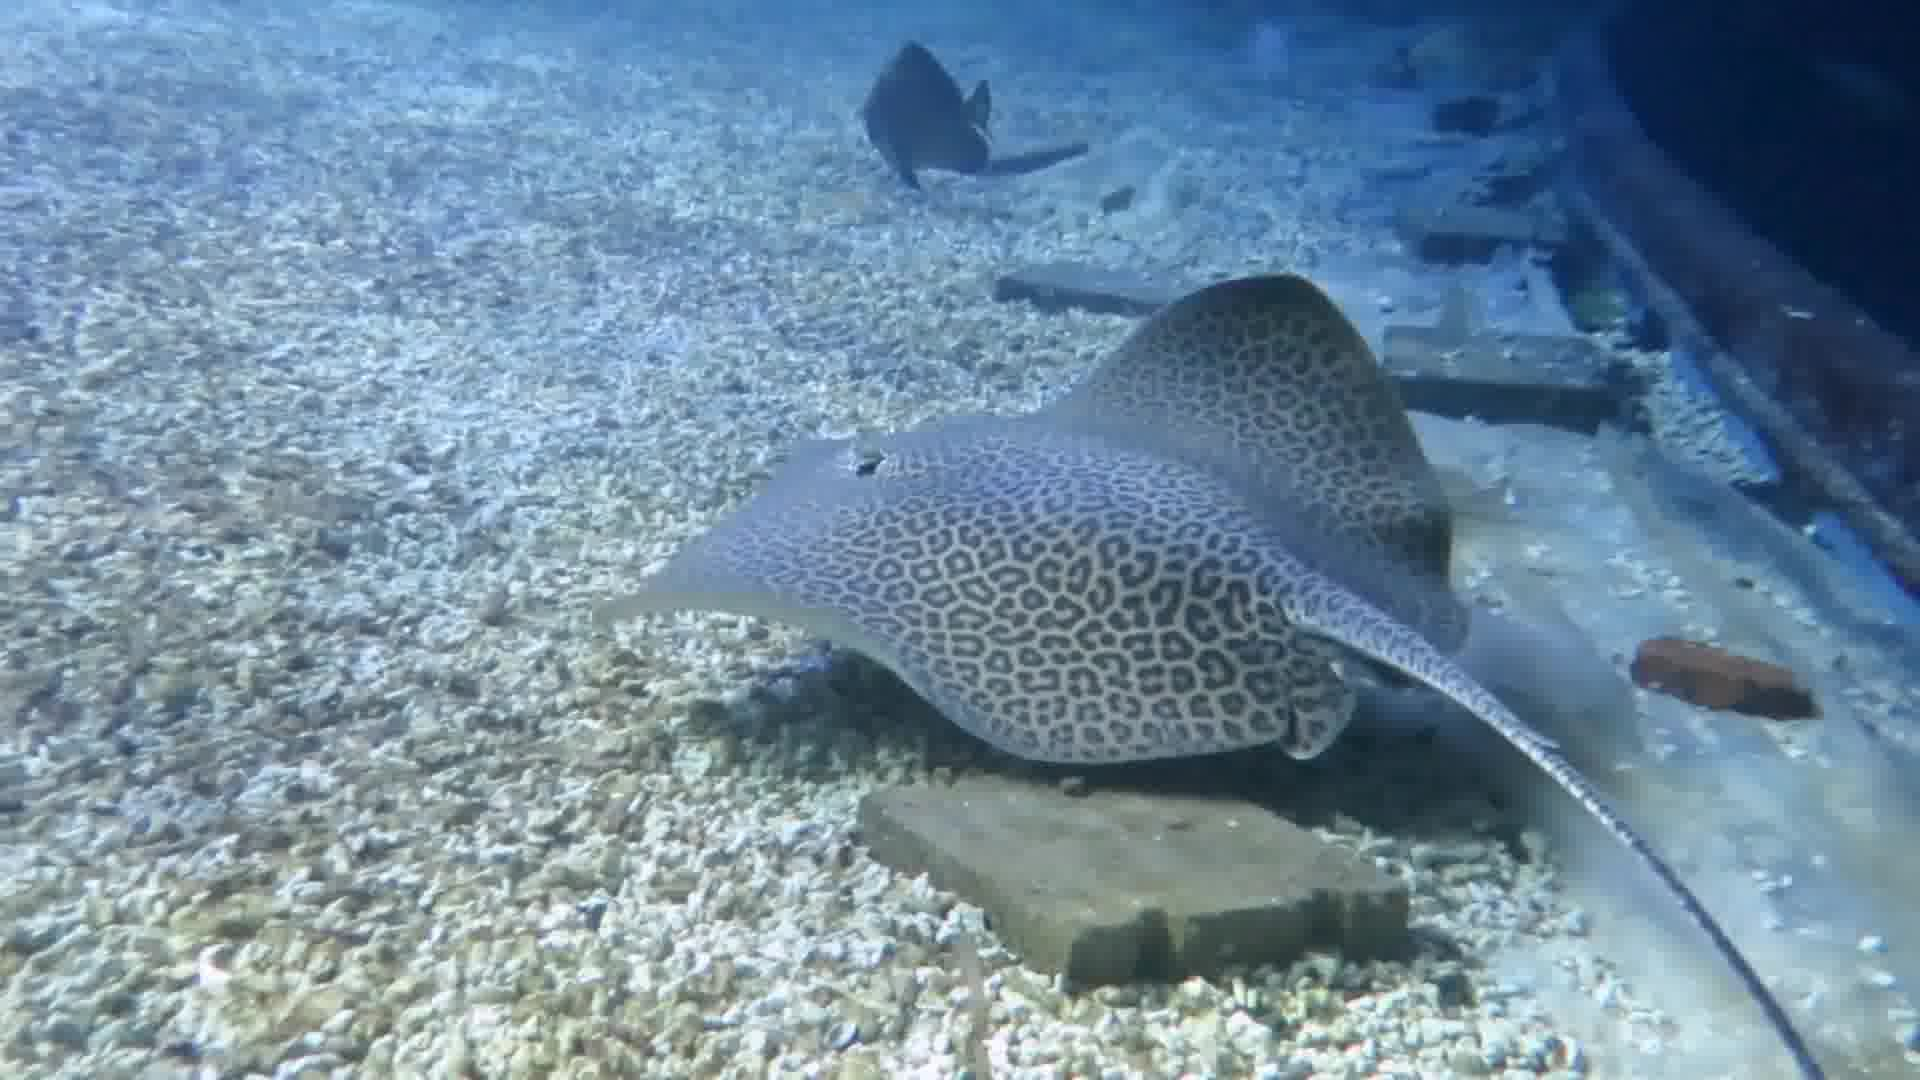Himantura uarnak: (618, 248, 1782, 949)
